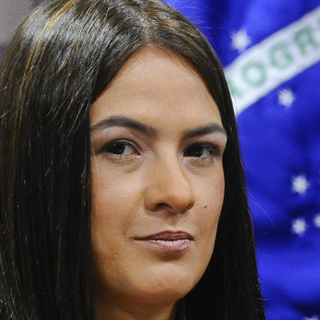eye: (99, 136, 145, 163), (177, 139, 219, 165)
